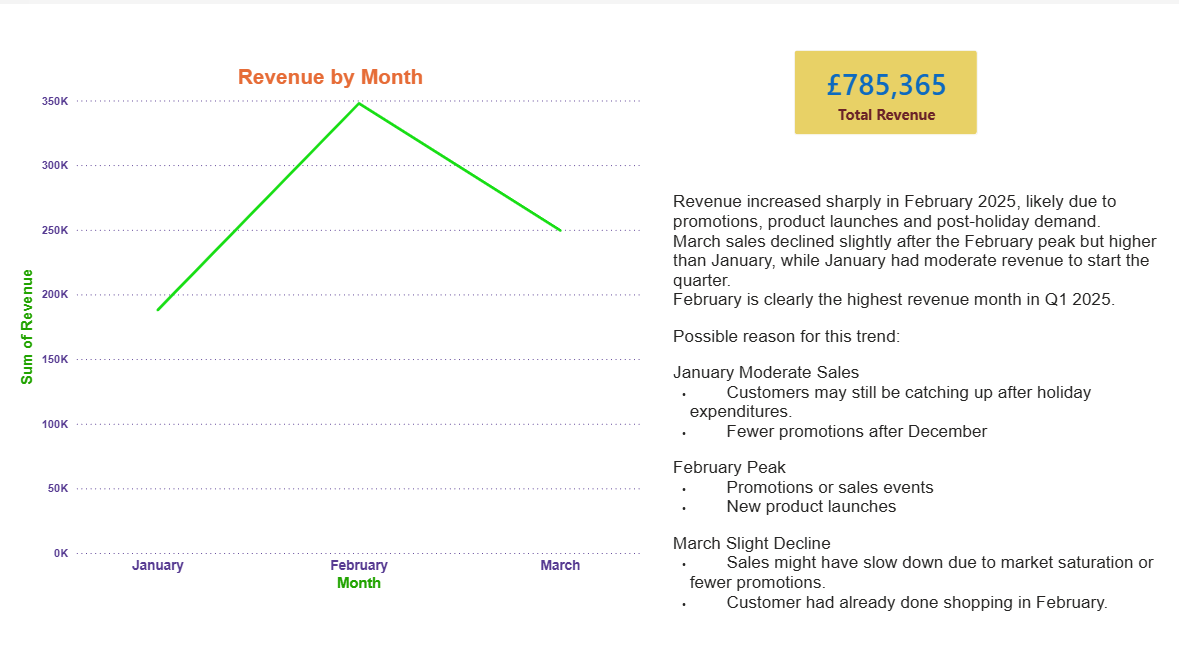

This screenshot's page, from the dashboard's own definition file:
{"tool":"powerbi","page":{"name":"What was the trend of total revenue over the three months?","canvas":[1280,720],"ordinal":5},"visuals":[{"type":"lineChart","title":"Revenue by Month","fields":{"Y":["Sum(RR-PRAC4 - retail_sales_q1_2025_large.Revenue)"],"Category":["RR-PRAC4 - retail_sales_q1_2025_large.Date.Variation.Date Hierarchy.Month"]},"box":[11.6,51.4,664.2,518.5],"z":0},{"type":"textbox","box":[733.8,114.3,546.6,561.5],"z":1000},{"type":"cardVisual","fields":{"Data":["Sum(RR-PRAC4 - retail_sales_q1_2025_large.Revenue)"]},"box":[226.9,593,235.2,127.5],"z":2000}]}

Visuals, with their boxes in screenshot pixels (x1, y1, x2, y2), scaled from the page's 1280x720 canvas onto the 1179x654 screenshot:
"Revenue by Month" lineChart: x1=11 y1=47 x2=622 y2=518
textbox: x1=676 y1=104 x2=1178 y2=614
cardVisual - Sum(RR-PRAC4 - retail_sales_q1_2025_large.Revenue): x1=209 y1=539 x2=426 y2=653
